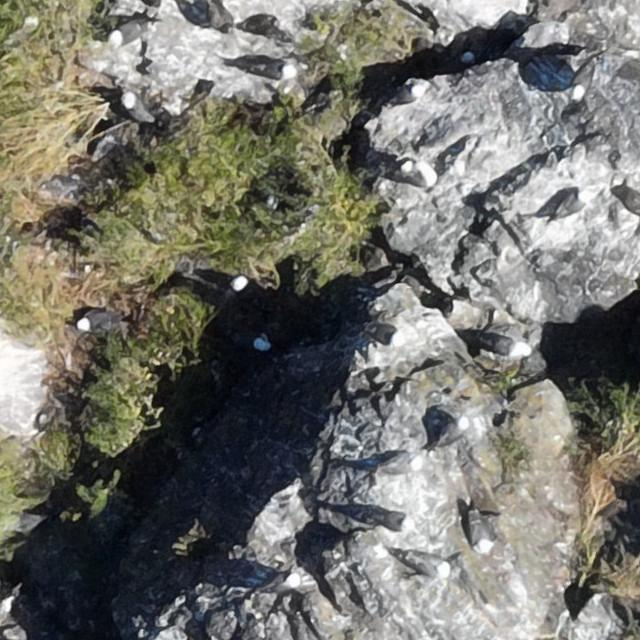umineko: (476, 334, 535, 361), (538, 188, 591, 218), (360, 506, 413, 534), (243, 55, 299, 79), (435, 416, 471, 450), (396, 156, 434, 187), (472, 512, 499, 555), (412, 552, 452, 579), (124, 95, 156, 125), (228, 272, 258, 301), (391, 82, 423, 101), (78, 310, 108, 330), (111, 23, 141, 43), (571, 68, 591, 98), (251, 334, 270, 352)
